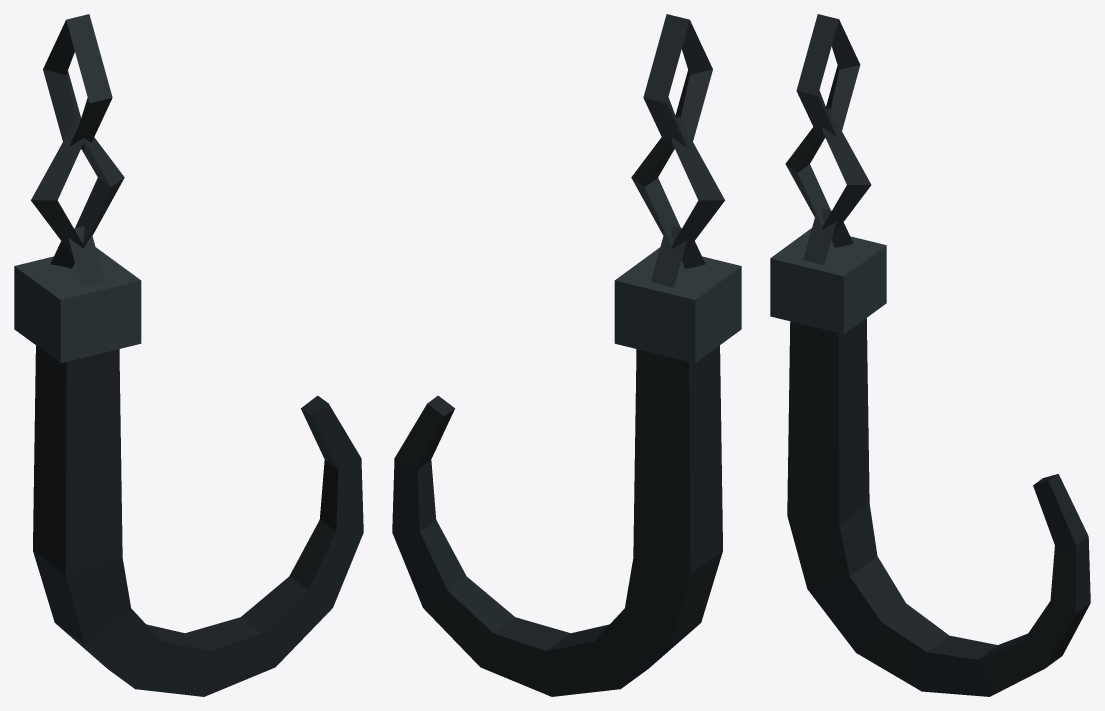
File: T1_Prop_Hook.fbx
3 renders of one model, left to right at view 1: azimuth 30°, elevation 25°; view 2: azimuth 150°, elevation 25°; view 3: azimuth 330°, elevation 25°, orthographic. The views are drawn at different scales.
Visible parts, largest first — view 1: T1_Prop_Hook; view 2: T1_Prop_Hook; view 3: T1_Prop_Hook.
Boxes of the visible parts, x1,y1,x2,y2 form: T1_Prop_Hook: (14, 14, 363, 696); T1_Prop_Hook: (392, 14, 741, 696); T1_Prop_Hook: (770, 14, 1090, 696).
Bounding box in the file's own units: 0.4838 × 0.9949 × 0.12.
